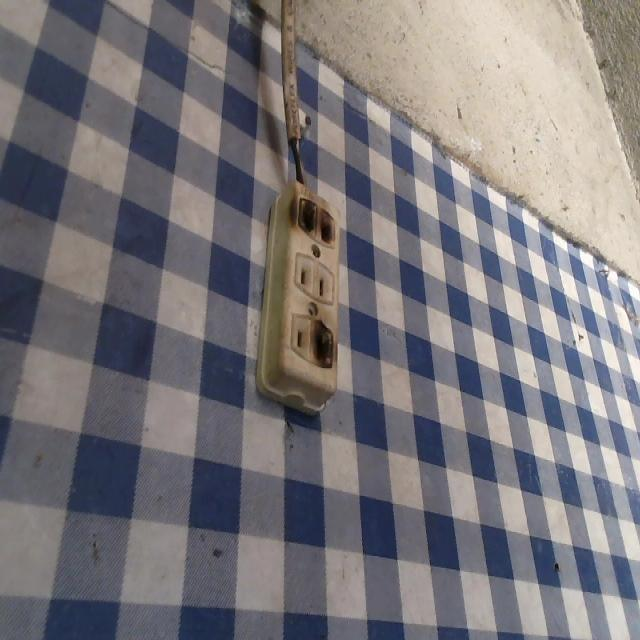-: (286, 189, 336, 248), (312, 316, 337, 369)
